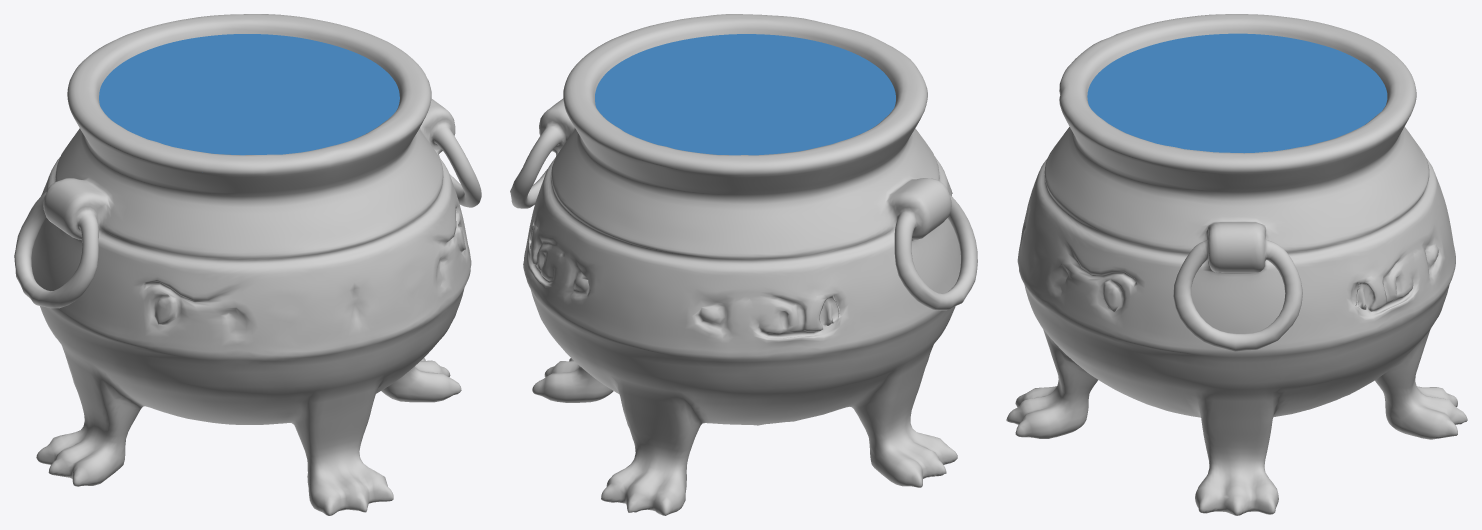
The picture shows the model from 3 angles, left to right: view 1: azimuth 30°, elevation 25°; view 2: azimuth 150°, elevation 25°; view 3: azimuth 270°, elevation 25°; orthographic projection.
Parts seen in each view (by area): view 1: model, Liquido; view 2: model, Liquido; view 3: model, Liquido.
Boxes of the visible parts, x1,y1,x2,y2 form: model: (14,14,481,515); Liquido: (99,34,399,155); model: (510,14,977,515); Liquido: (595,34,895,155); model: (1006,14,1467,515); Liquido: (1087,33,1387,153).
Bounding box in the file's own units: 1.9 × 1.44 × 1.76.
